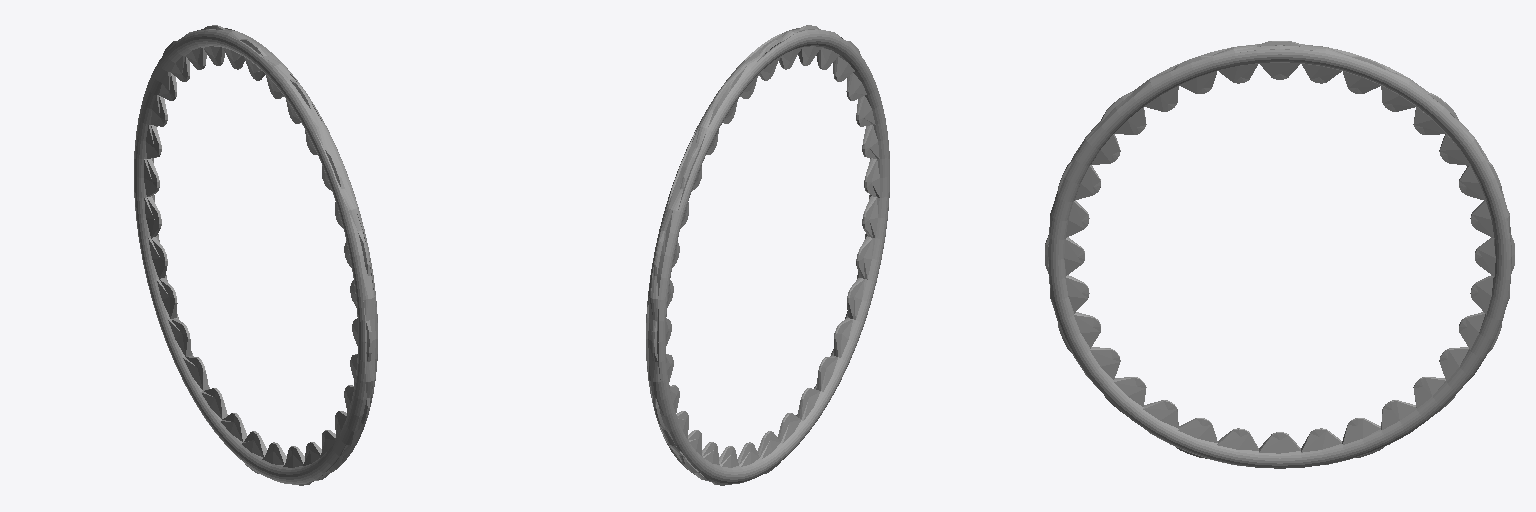
Rendered from BF_Stupid_Halo_Tyre.obj.
The picture shows the model from 3 angles: view 1: azimuth 30°, elevation 25°; view 2: azimuth 150°, elevation 25°; view 3: azimuth 270°, elevation 25°; orthographic projection.
Parts seen in each view (by area): view 1: Torus.000; view 2: Torus.000; view 3: Torus.000.
Part boxes in pixels (x1,y1,x2,y2): Torus.000: (134, 25, 377, 485); Torus.000: (646, 25, 889, 485); Torus.000: (1045, 41, 1514, 468).
Bounding box in the file's own units: 1.2 × 27.91 × 27.91.